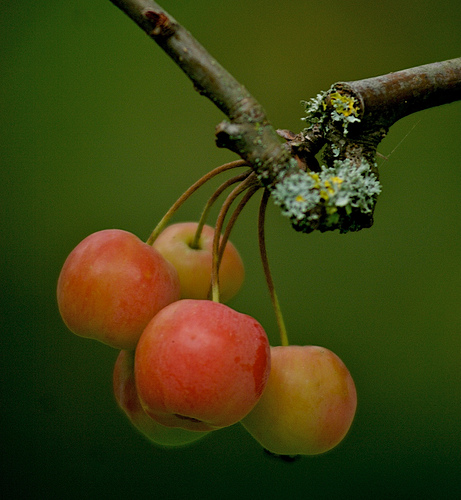apple: (135, 297, 278, 437), (57, 225, 190, 346), (236, 338, 363, 460)
